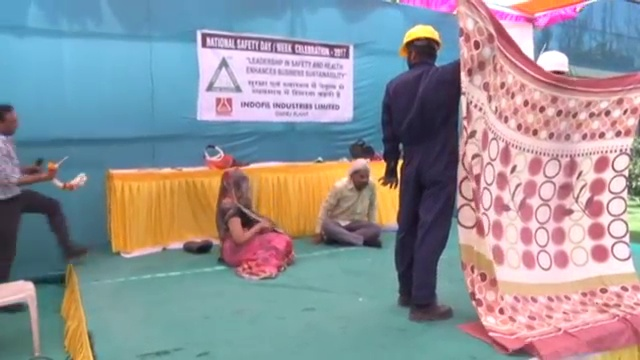helmet: (399, 23, 441, 55), (535, 50, 571, 76)
helmet_off: (219, 168, 248, 195), (351, 157, 373, 190), (1, 102, 21, 138)
helmet_on: (399, 23, 442, 68)
person: (380, 23, 462, 323), (1, 102, 84, 285), (214, 167, 294, 282), (316, 156, 383, 247)
